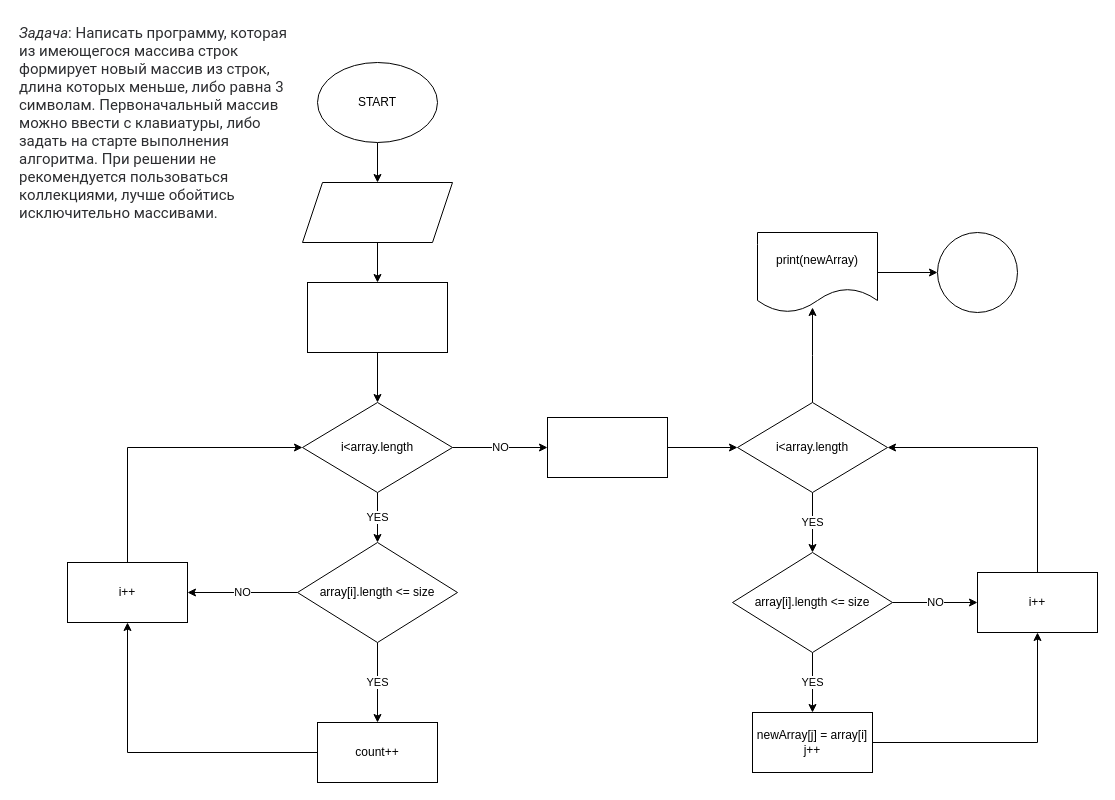
Some shapes in this 1115 by 800 pixel diagram are drawn without their labels. The centre of each missing label's shape, as x and y in pixels:
"array[]" goes at (x=377, y=212).
"END" goes at (x=977, y=272).
"i = 0 count = 0 size = 3" goes at (x=377, y=317).
"newArray[count] i = 0 j = 0" goes at (x=607, y=447).
